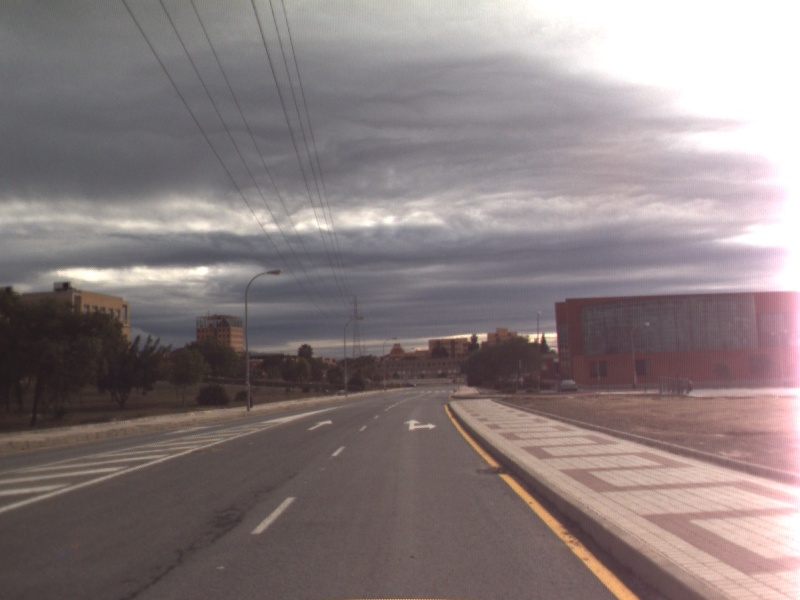STRAIGHT: (305, 418, 334, 432)
STRAIGHT_RIGHT: (402, 417, 438, 432)
